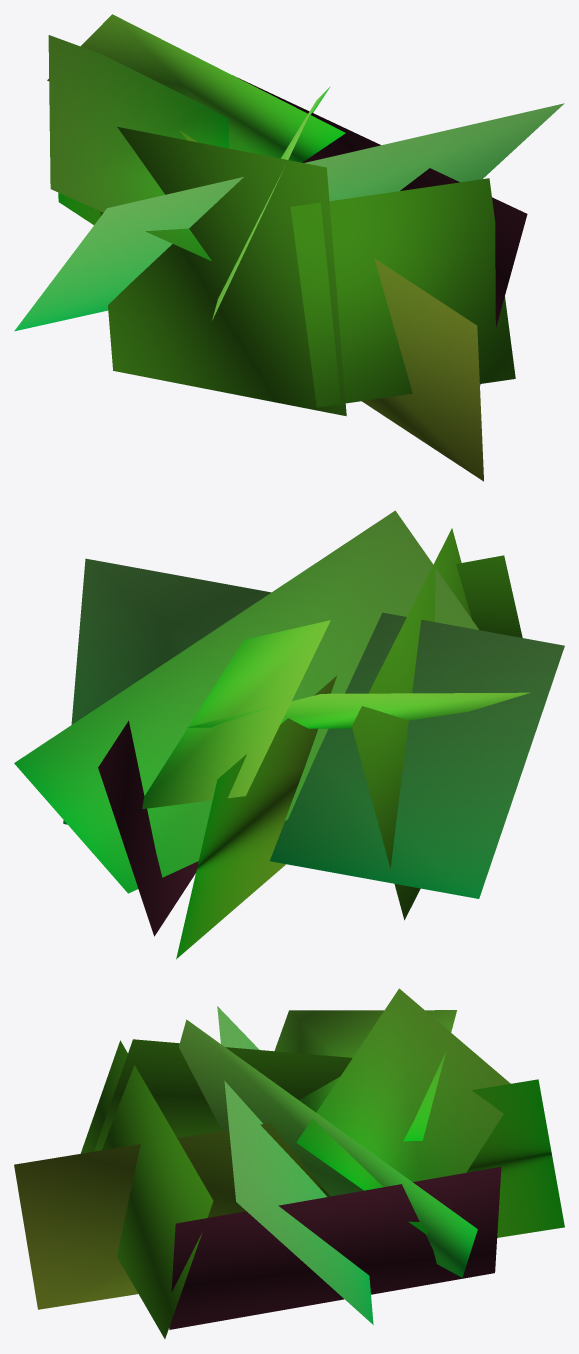
Rendered from bush1_LOD2.fbx.
3 renders of one model, top to bottom at view 1: azimuth 30°, elevation 25°; view 2: azimuth 150°, elevation 25°; view 3: azimuth 270°, elevation 25°, orthographic. The views are drawn at different scales.
Visible parts, largest first — view 1: bush1_LOD2; view 2: bush1_LOD2; view 3: bush1_LOD2.
Boxes of the visible parts, x1,y1,x2,y2 form: bush1_LOD2: (14,14,564,481); bush1_LOD2: (14,510,564,959); bush1_LOD2: (14,988,564,1338).
Size of the model in its own units: 284 by 189 by 356.
